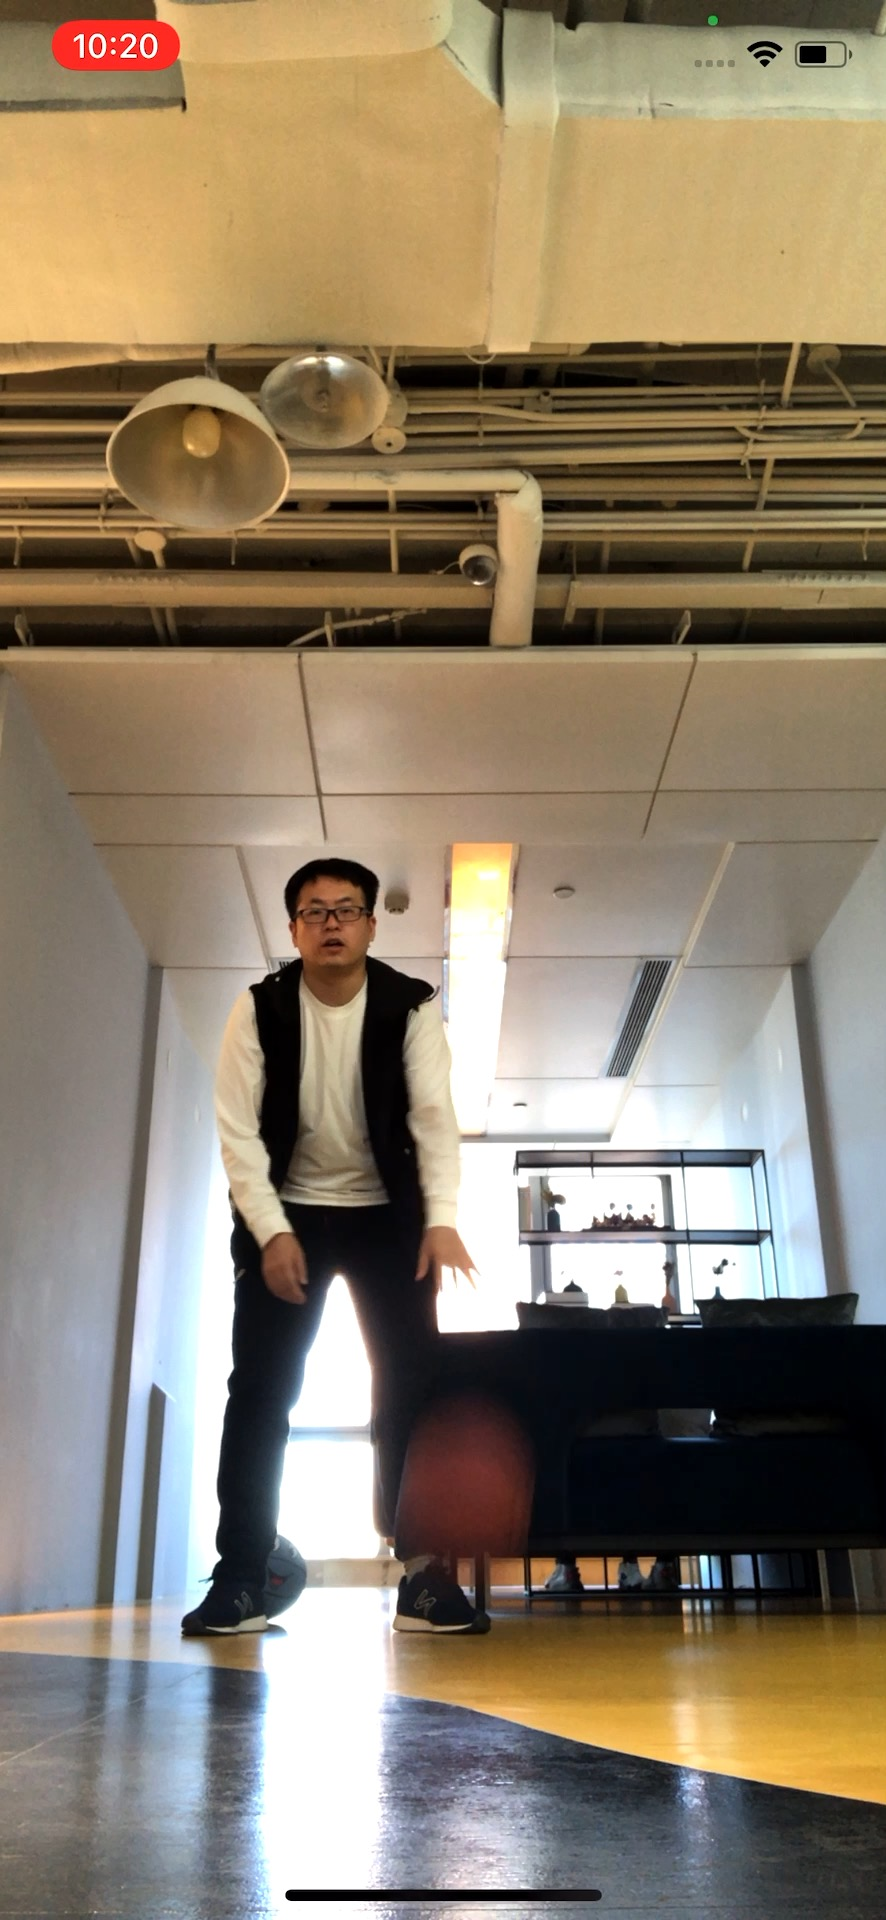ball: (394, 1423, 527, 1553)
